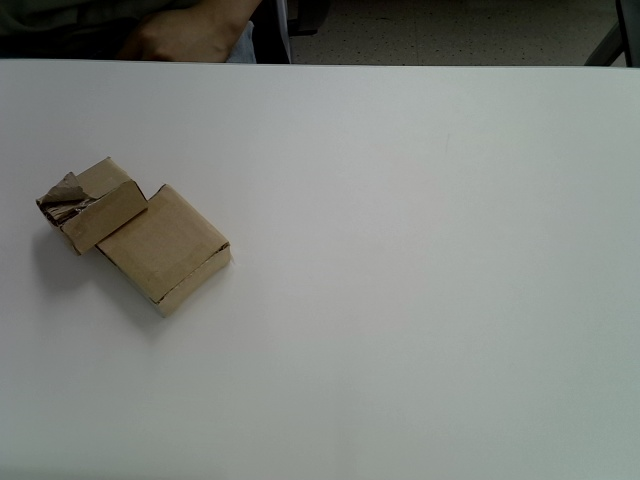defect: (35, 157, 149, 256)
normal: (96, 184, 230, 317)
